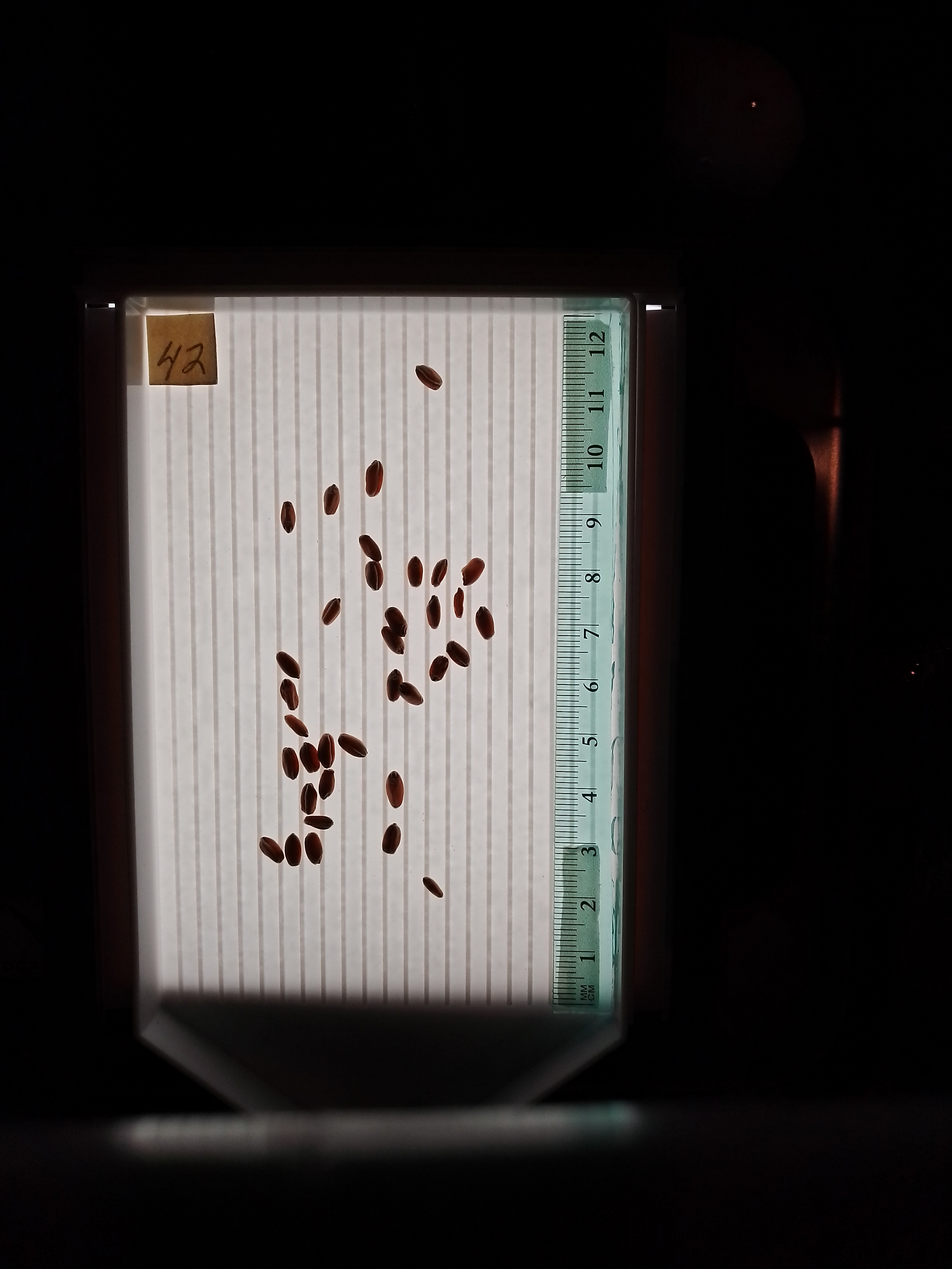seed mask: (416, 365, 442, 391), (338, 734, 367, 757), (365, 461, 384, 496), (276, 652, 300, 679), (461, 557, 484, 585), (386, 773, 404, 808), (386, 607, 407, 636), (300, 743, 320, 773), (359, 535, 382, 561), (381, 628, 404, 654), (260, 837, 283, 863), (476, 607, 494, 639), (447, 641, 469, 667), (318, 734, 335, 767), (305, 833, 323, 864), (400, 682, 423, 706), (365, 561, 384, 590), (280, 680, 298, 710), (383, 824, 401, 854), (285, 834, 301, 867), (282, 748, 299, 779), (429, 655, 448, 682), (322, 598, 341, 625), (285, 715, 308, 737), (426, 596, 441, 629), (407, 557, 424, 586), (324, 485, 340, 515), (281, 502, 296, 533), (301, 784, 317, 813), (387, 671, 402, 701), (432, 558, 447, 587), (319, 771, 335, 798), (305, 814, 332, 830), (453, 589, 464, 616)
